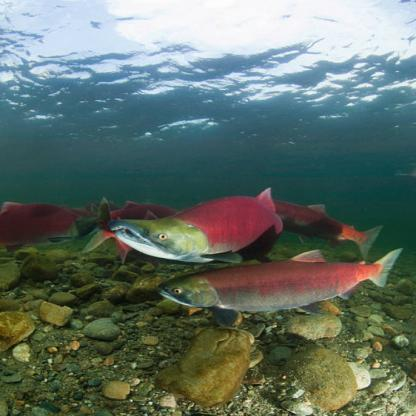sockeye: (156, 249, 416, 316), (113, 188, 298, 260)
sockeye-group: (10, 190, 402, 305)
